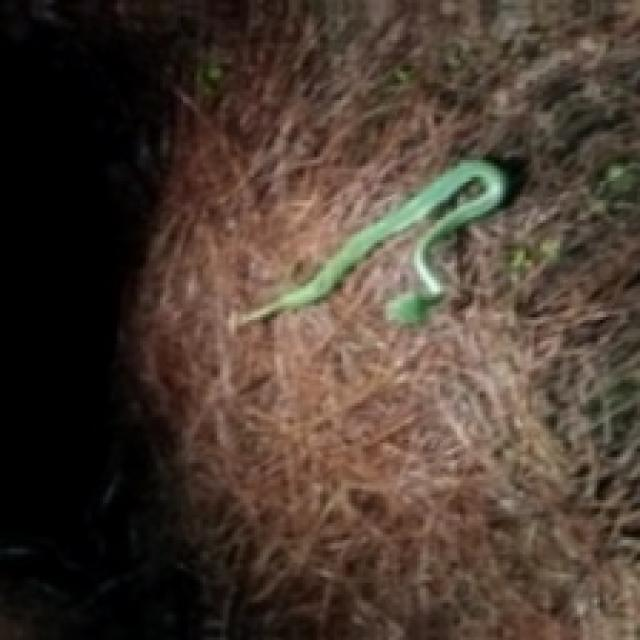north ph temple pitviper: (229, 160, 506, 326)
